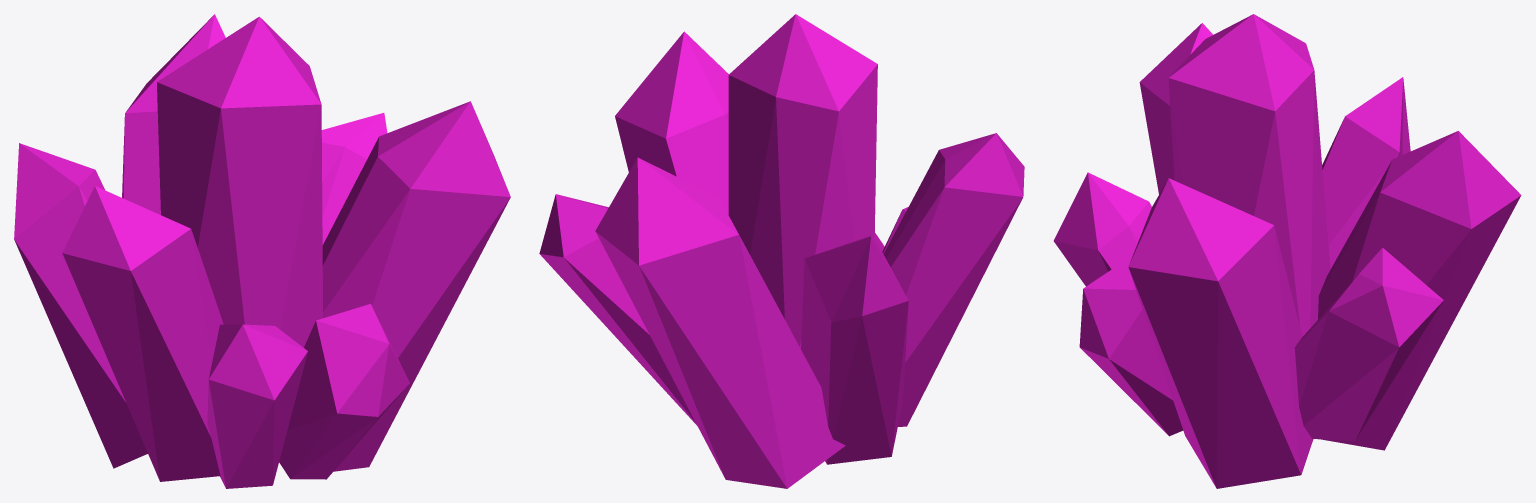
File: magenta_crystal_block.obj
3 renders of one model, left to right at view 1: azimuth 30°, elevation 25°; view 2: azimuth 150°, elevation 25°; view 3: azimuth 270°, elevation 25°, orthographic. The views are drawn at different scales.
Parts seen in each view (by area): view 1: Icosphere.036_Icosphere.037; view 2: Icosphere.036_Icosphere.037; view 3: Icosphere.036_Icosphere.037.
Part boxes in pixels (x1,y1,x2,y2): Icosphere.036_Icosphere.037: (14,14,510,488); Icosphere.036_Icosphere.037: (539,14,1024,488); Icosphere.036_Icosphere.037: (1053,14,1521,488).
Size of the model in its own units: 1.01 by 1.01 by 0.9894.
